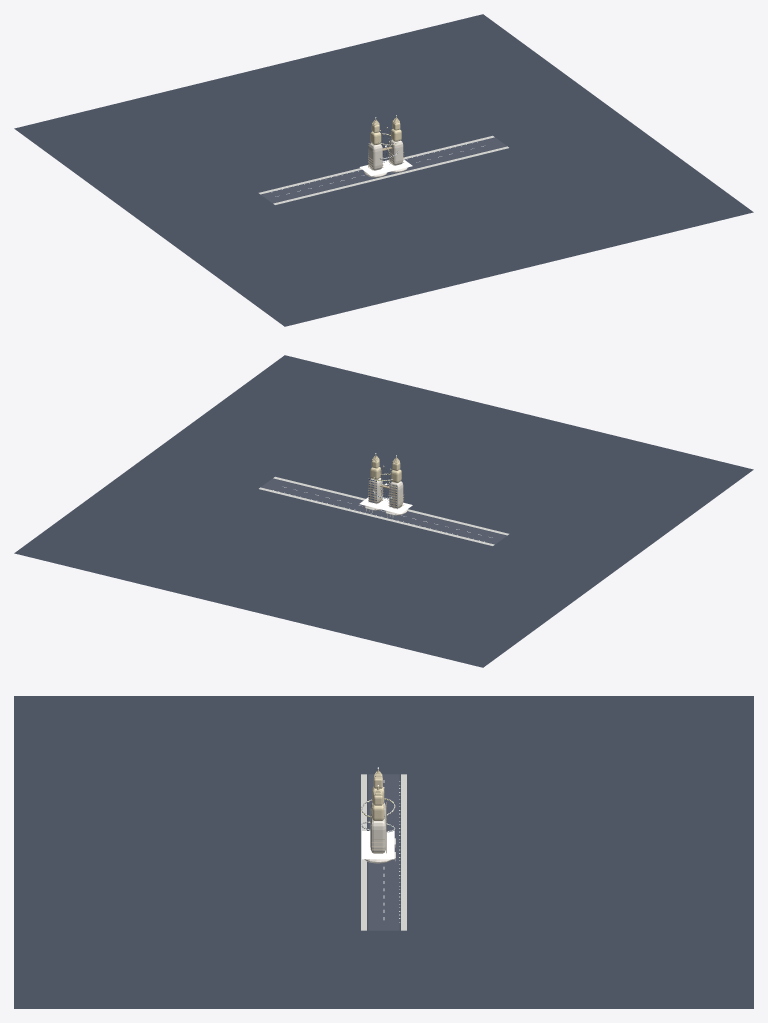
File: studio-v2.glb
The picture shows the model from 3 angles, top to bottom: view 1: azimuth 30°, elevation 25°; view 2: azimuth 150°, elevation 25°; view 3: azimuth 270°, elevation 25°; orthographic projection. The views are drawn at different scales.
Visible parts, largest first — view 1: Ground, Avenue, Sidewalk_-1, Sidewalk_1; view 2: Ground, Avenue, Sidewalk_1, Sidewalk_-1; view 3: Ground, Avenue, Sidewalk_1, Sidewalk_-1, TowerB_Blk_0.
Boxes of the visible parts, x1,y1,x2,y2 form: Ground: [14, 14, 753, 326]; Avenue: [261, 137, 506, 203]; Sidewalk_-1: [273, 146, 508, 204]; Sidewalk_1: [259, 135, 494, 194]; Ground: [14, 355, 753, 667]; Avenue: [261, 478, 506, 544]; Sidewalk_1: [259, 487, 494, 545]; Sidewalk_-1: [273, 476, 508, 535]; Ground: [14, 696, 753, 1008]; Avenue: [368, 774, 399, 930]; Sidewalk_1: [401, 774, 406, 930]; Sidewalk_-1: [361, 774, 366, 930]; TowerB_Blk_0: [370, 819, 385, 853].
Size of the model in its own units: 520 by 60.59 by 520.
